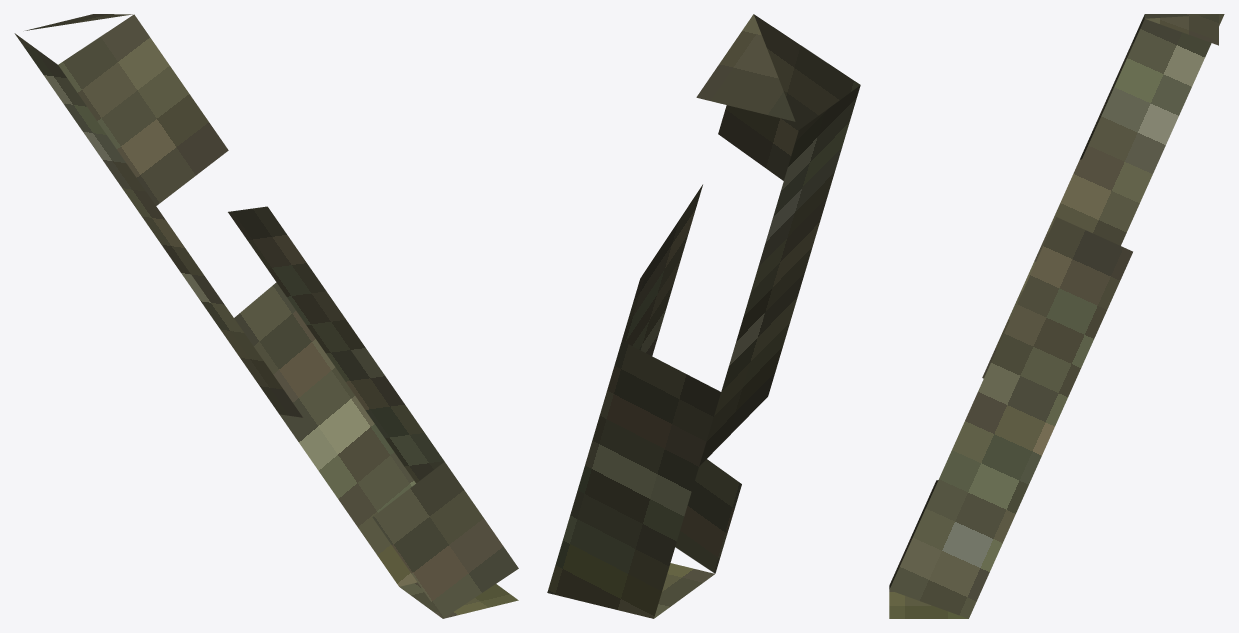
Rendered from maple_thin_branch_22.5_diagonal.obj.
3 views of the same model, side by side, from view 1: azimuth 30°, elevation 25°; view 2: azimuth 150°, elevation 25°; view 3: azimuth 270°, elevation 25° (orthographic). The views are drawn at different scales.
Parts seen in each view (by area): view 1: cube_selection; view 2: cube_selection; view 3: cube_selection.
Part boxes in pixels (bbox=[...]): cube_selection: bbox=[14, 14, 518, 618]; cube_selection: bbox=[547, 14, 860, 618]; cube_selection: bbox=[889, 14, 1224, 618].
Bounding box in the file's own units: 1.31 × 2.12 × 1.31.
